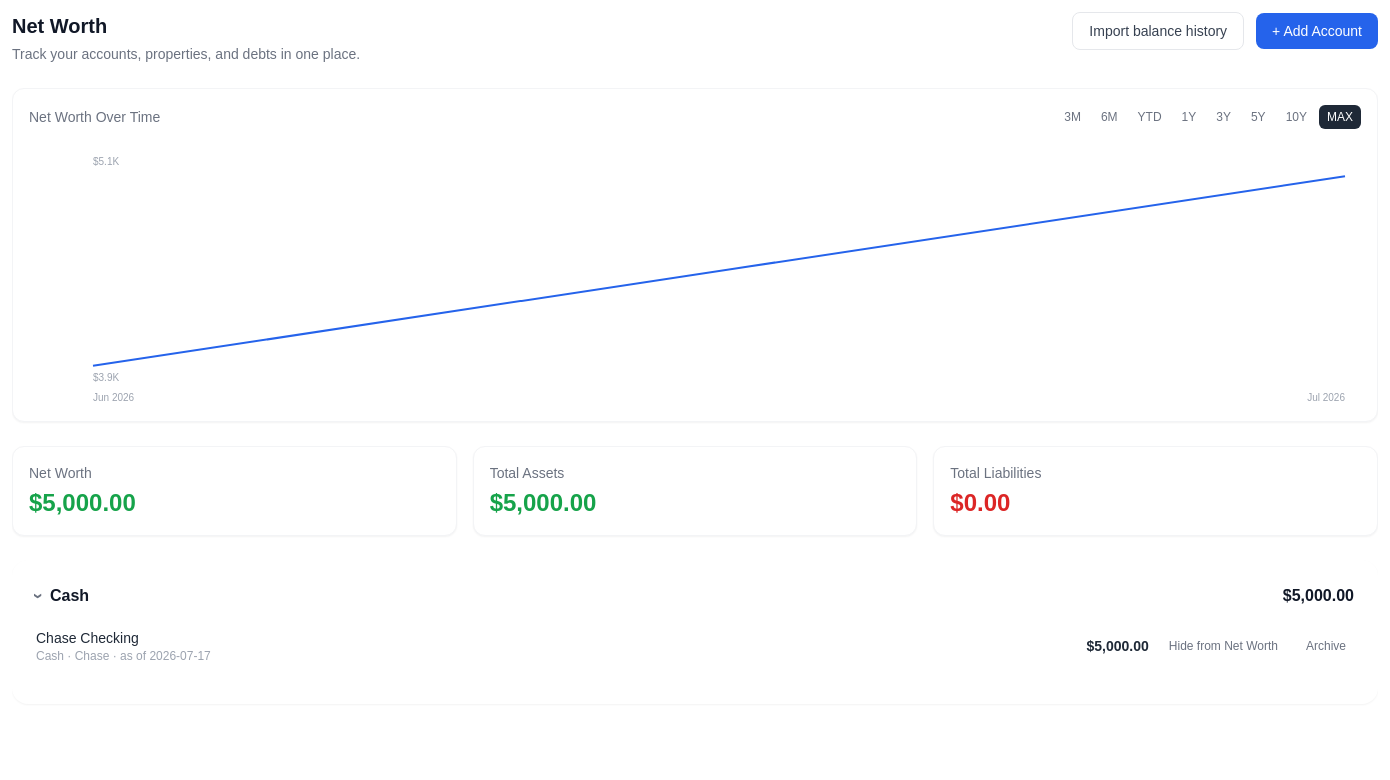
it: NetWorthClient — refresh after archiving › does not refresh when the archive fails
Step 1. Click the button with aria-label "Archive Chase Checking" → coordinates (1326, 646), box [1298,634,1354,658]
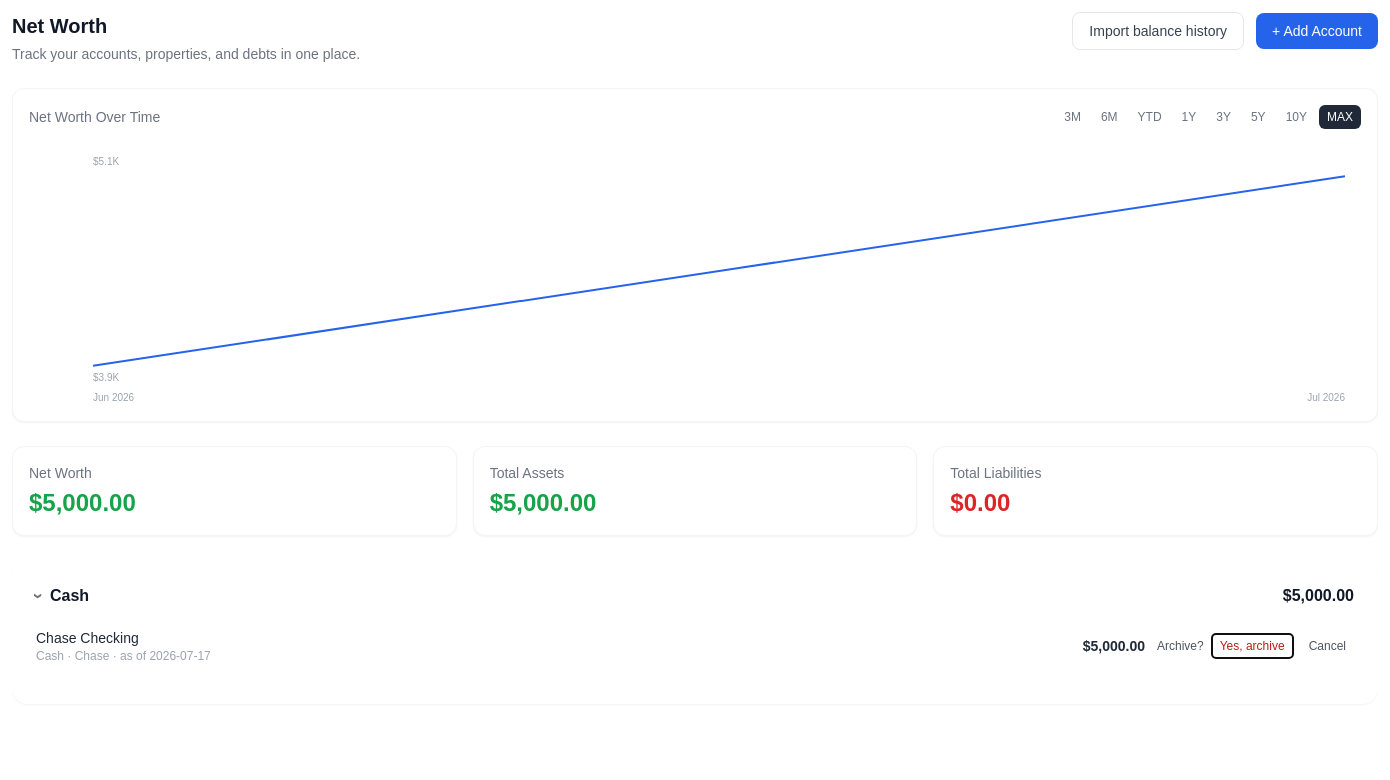
Two-step now (item 14a): the row's control asks, the confirm commits.
Step 2. Click the button "Yes, archive" → coordinates (1252, 646), box [1212,634,1293,658]
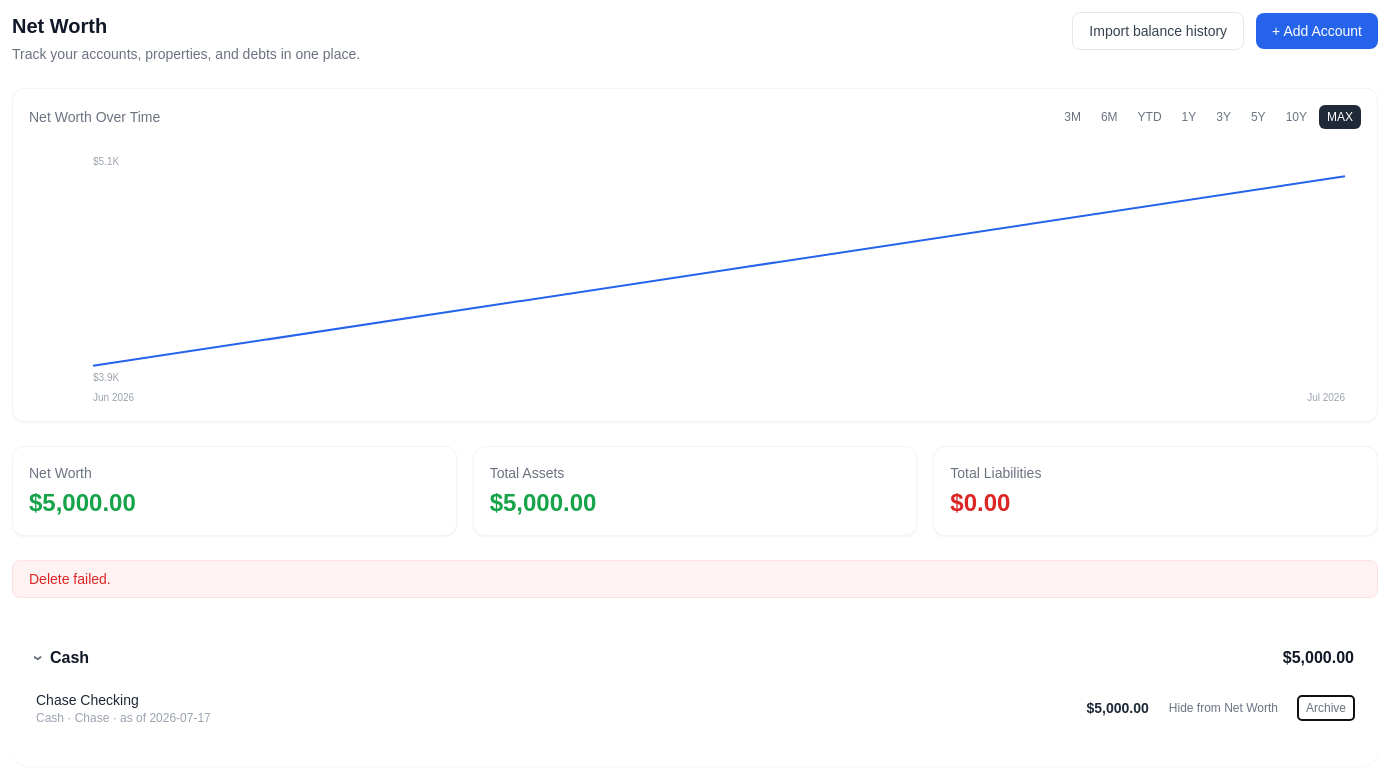
expect the text "Delete failed." is shown: met, box [12,560,1378,598]
